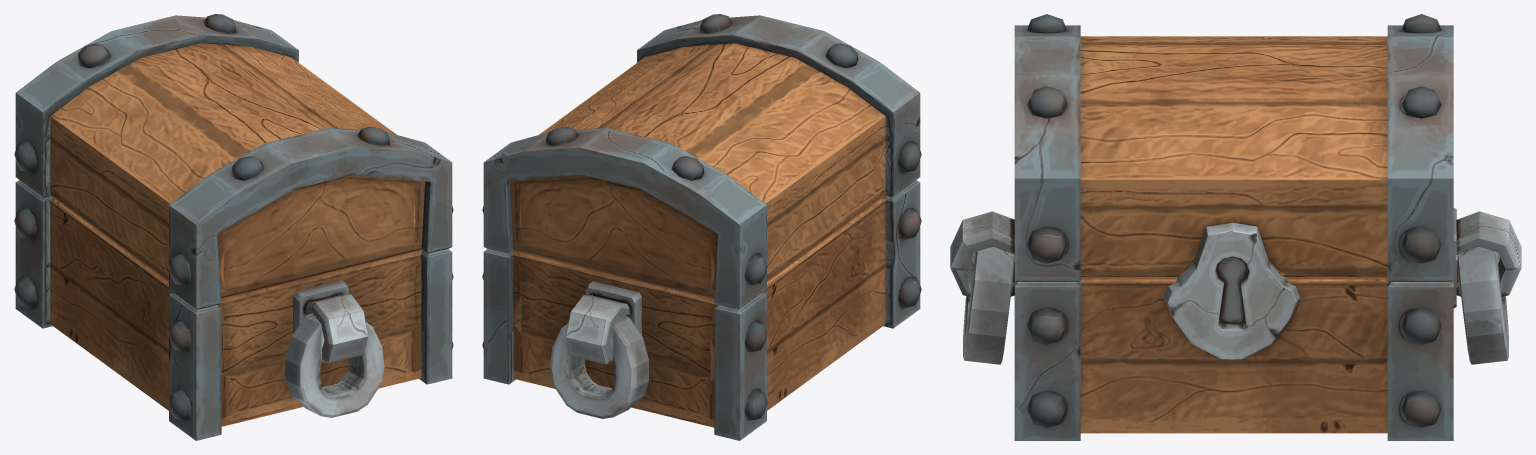
Rendered from stylized_chest.glb.
3 views of the same model, side by side, from view 1: azimuth 30°, elevation 25°; view 2: azimuth 150°, elevation 25°; view 3: azimuth 270°, elevation 25° (orthographic). The views are drawn at different scales.
Parts seen in each view (by area): view 1: Cube.011, Cube.010, Cube.012, Cube.001, Cube.013, Cube.015, Cube.014, Cube.002, Cube.006, Cube.019, Cube.016, Cube.018 (+4 smaller); view 2: Cube.011, Cube.010, Cube.001, Cube.012, Cube.002, Cube.007, Cube.008, Cube.013, Cube.019, Cube.006, Cube.003, Cube.005 (+4 smaller); view 3: Cube.011, Cube.010, Cube.001, Cube.012, Vert.002, Cube.002, Cube.013, Cube.015, Cube.007, Cube.008, Cube.014, Cube.006 (+7 smaller).
Boxes of the visible parts, <box> form: Cube.011: <box>50,43,424,298</box>; Cube.010: <box>50,196,422,426</box>; Cube.012: <box>169,127,452,309</box>; Cube.001: <box>15,15,298,197</box>; Cube.013: <box>169,249,452,440</box>; Cube.015: <box>285,313,384,417</box>; Cube.014: <box>293,280,368,363</box>; Cube.002: <box>15,180,52,328</box>; Cube.006: <box>77,14,235,67</box>; Cube.019: <box>232,127,390,180</box>; Cube.016: <box>168,341,453,420</box>; Cube.018: <box>168,206,453,285</box>; Cube.011: <box>510,43,885,299</box>; Cube.010: <box>512,196,885,427</box>; Cube.001: <box>483,127,766,309</box>; Cube.012: <box>637,15,920,197</box>; Cube.002: <box>483,249,766,440</box>; Cube.007: <box>550,315,648,418</box>; Cube.008: <box>566,281,641,364</box>; Cube.013: <box>883,180,920,328</box>; Cube.019: <box>700,14,858,67</box>; Cube.006: <box>545,127,703,180</box>; Cube.003: <box>482,341,767,420</box>; Cube.005: <box>482,206,767,285</box>; Cube.011: <box>1080,36,1387,276</box>; Cube.010: <box>1080,277,1388,433</box>; Cube.001: <box>1387,25,1453,281</box>; Cube.012: <box>1014,25,1080,281</box>; Vert.002: <box>1163,222,1300,359</box>; Cube.002: <box>1387,281,1453,440</box>; Cube.013: <box>1014,281,1080,440</box>; Cube.015: <box>963,246,1014,364</box>; Cube.007: <box>1457,246,1508,364</box>; Cube.008: <box>1453,208,1521,308</box>; Cube.014: <box>950,211,1014,296</box>; Cube.006: <box>1401,14,1441,118</box>.
Size of the model in its own units: 0.7372 by 0.645 by 1.07.
1 material, 1 textured.
